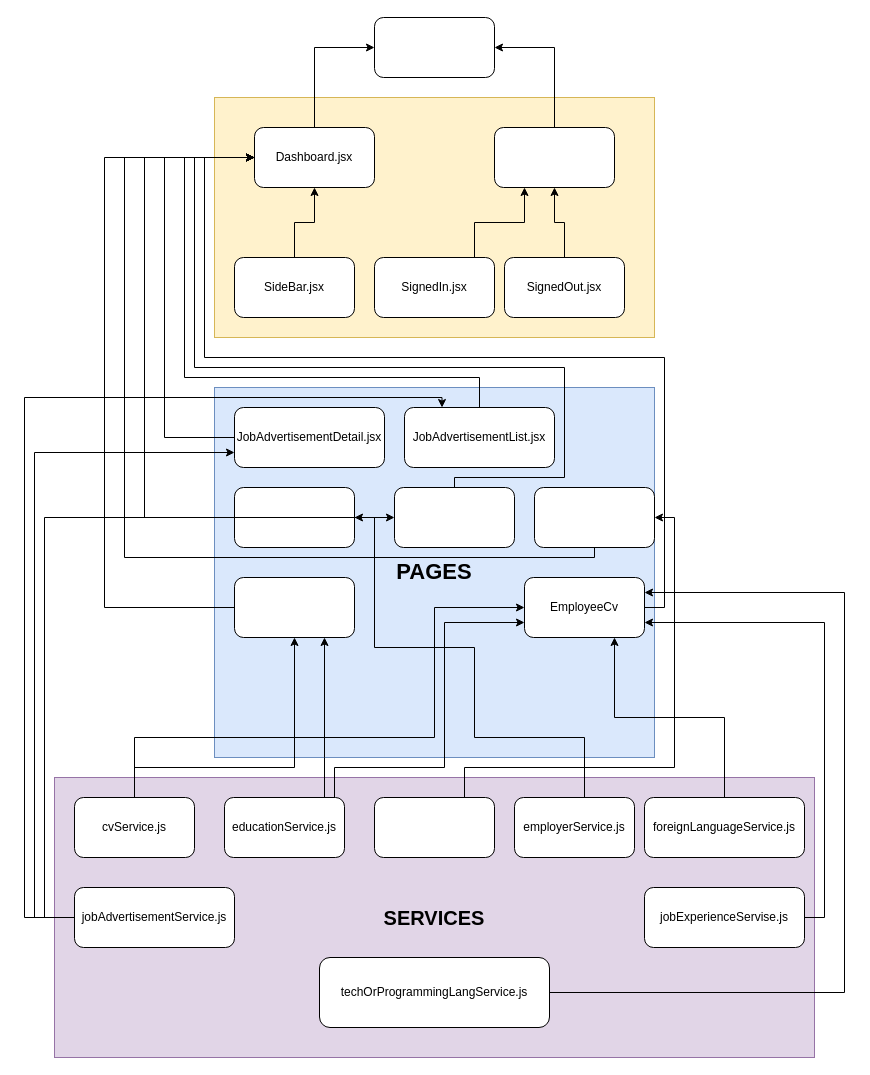
Image size: 870x1075. Some labels were removed from this diagram. Each missing label, with the box of its shape:
App.js: (374, 16, 494, 78)
EmployeeList.jsx: (534, 486, 654, 548)
employeeService.js: (374, 796, 494, 858)
EmployeeViewCvs.jsx: (234, 576, 354, 638)
EmployerDetails.jsx: (394, 486, 514, 548)
EmployerList.jsx: (234, 486, 354, 548)
LAYOUT: (214, 96, 654, 338)
Navi.jsx: (494, 126, 614, 188)
